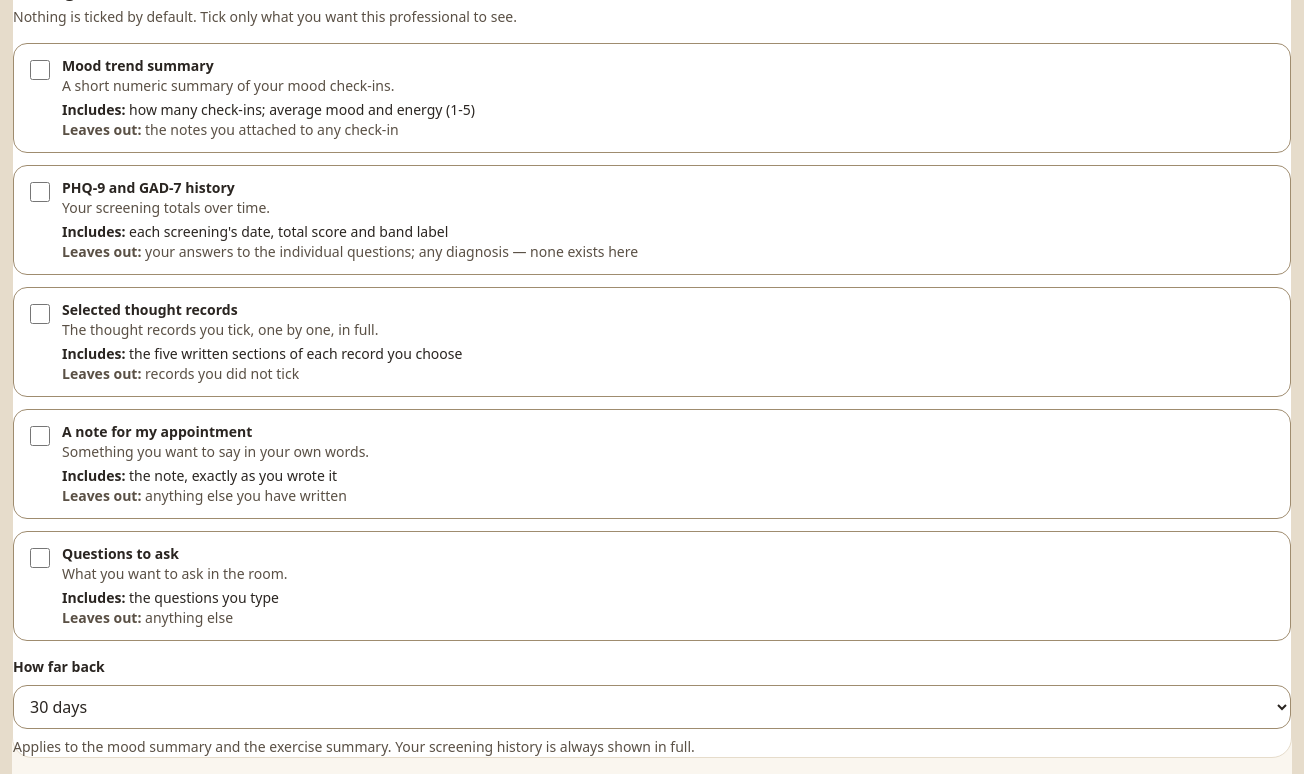
Test: ShareBuilder › renders the preview the server built, not a copy the UI invented
Click the 1st checkbox at coordinates (40, 70), box [30,60,50,80]
(page scrolled)
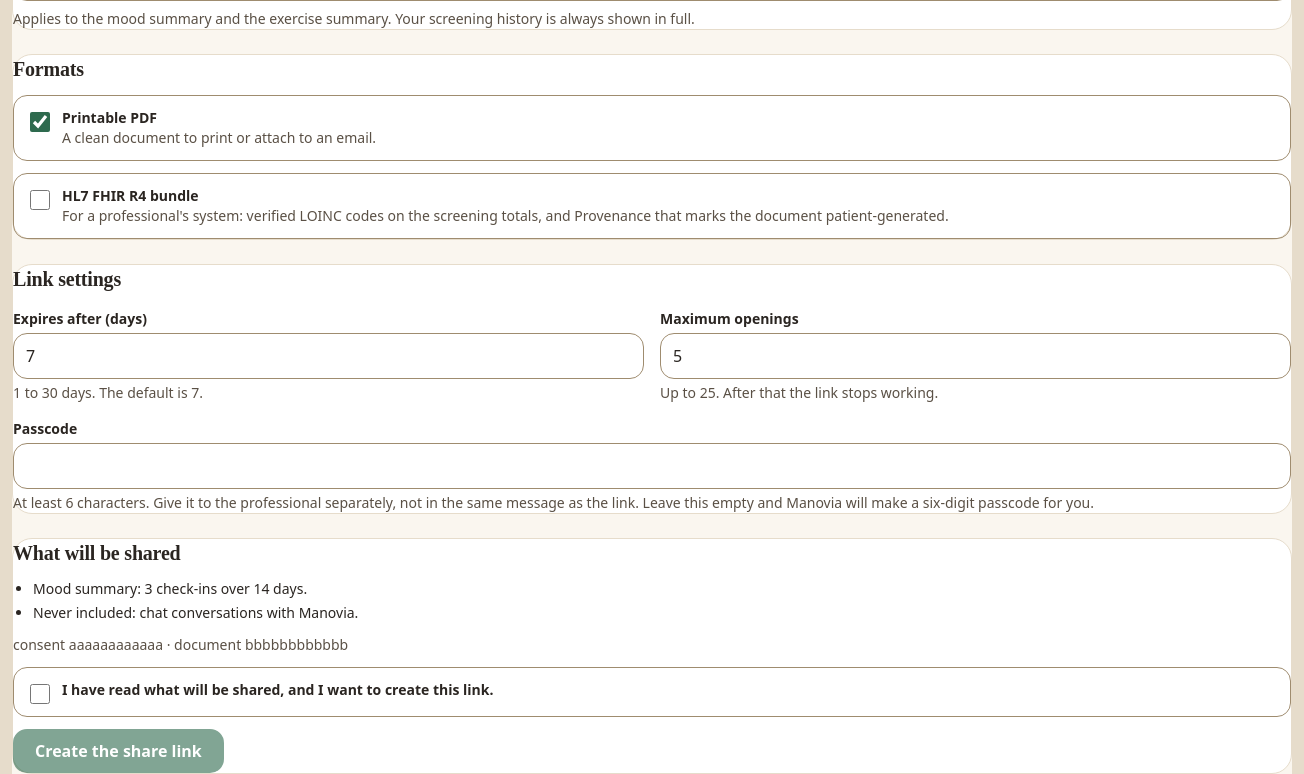
Result: the number of list items is 2 at [33,579,307,598]; [33,603,358,622]
Result: the list item "Mood summary: 3 check-ins over 14 days." is shown at [33,579,307,598]
